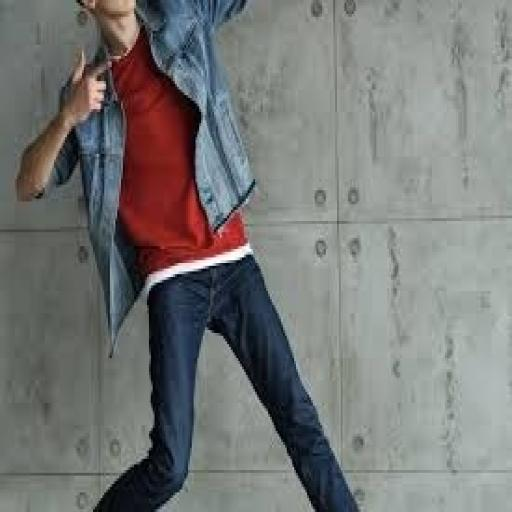dancing: (13, 0, 376, 509)
